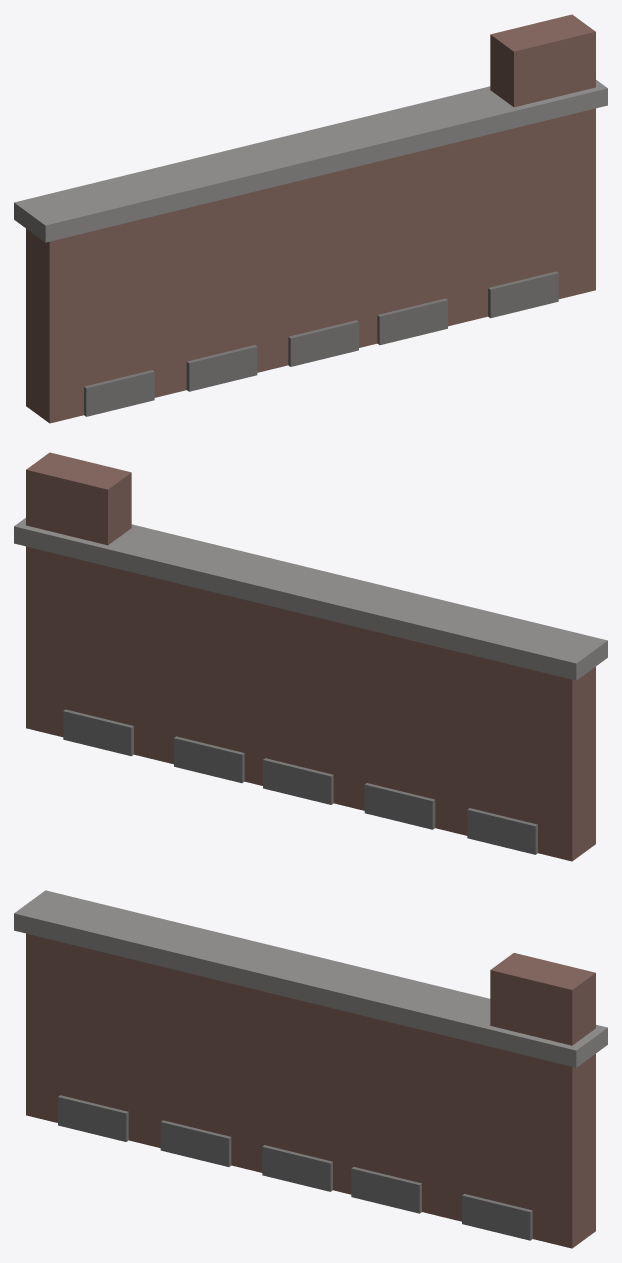
Rendered from wall_brick.glb.
3 renders of one model, top to bottom at view 1: azimuth 30°, elevation 25°; view 2: azimuth 150°, elevation 25°; view 3: azimuth 330°, elevation 25°, orthographic.
Parts seen in each view (by area): view 1: wall_brick.001; view 2: wall_brick.001; view 3: wall_brick.001.
Boxes of the visible parts, left/top/right/bottom form: wall_brick.001: left=14, top=14, right=607, bottom=423; wall_brick.001: left=14, top=452, right=607, bottom=861; wall_brick.001: left=14, top=890, right=607, bottom=1248.
Bounding box in the file's own units: 4.12 × 1.81 × 0.4.
